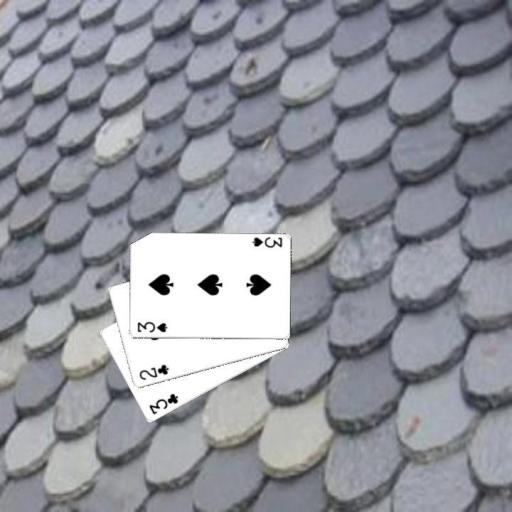2C: (136, 361, 170, 382)
3C: (146, 390, 179, 416)
3S: (134, 320, 169, 335), (249, 235, 283, 250)
